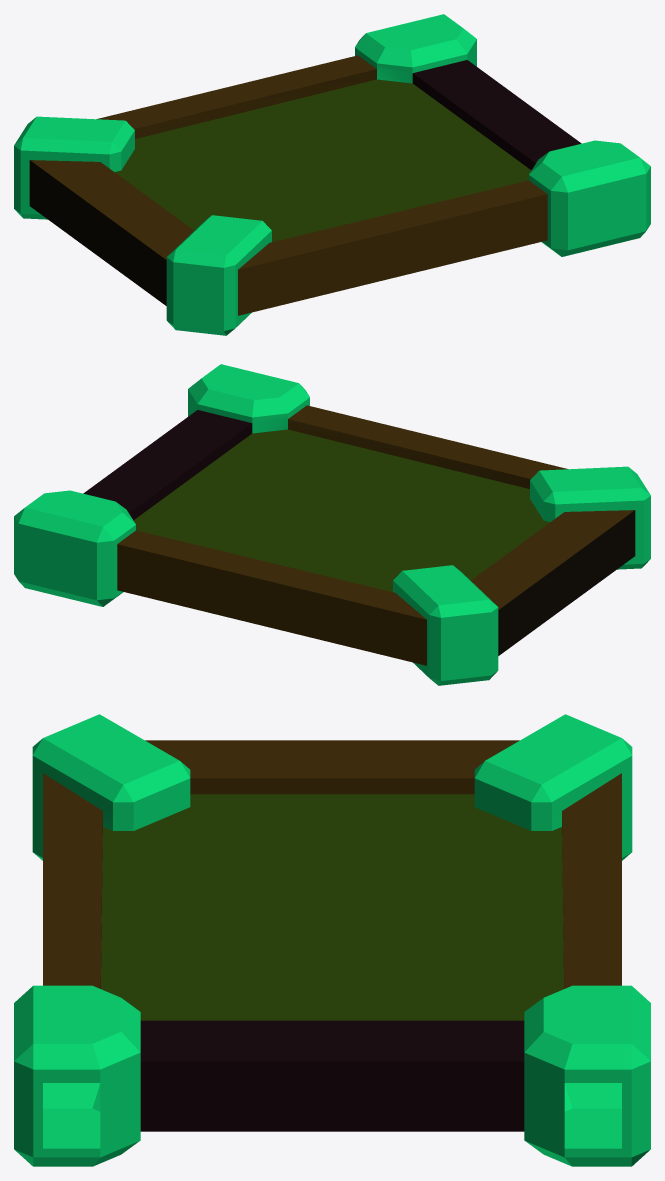
Rendered from OBJ_Plateforme_5x4.fbx.
3 views of the same model, one above another, from view 1: azimuth 30°, elevation 25°; view 2: azimuth 150°, elevation 25°; view 3: azimuth 270°, elevation 25° (orthographic). The views are drawn at different scales.
Visible parts, largest first — view 1: OBJ_Plateforme_5x4; view 2: OBJ_Plateforme_5x4; view 3: OBJ_Plateforme_5x4.
Boxes of the visible parts, x1,y1,x2,y2 form: OBJ_Plateforme_5x4: [14, 14, 650, 335]; OBJ_Plateforme_5x4: [14, 364, 650, 685]; OBJ_Plateforme_5x4: [14, 714, 650, 1166].
Size of the model in its own units: 5.08 by 0.8514 by 4.
